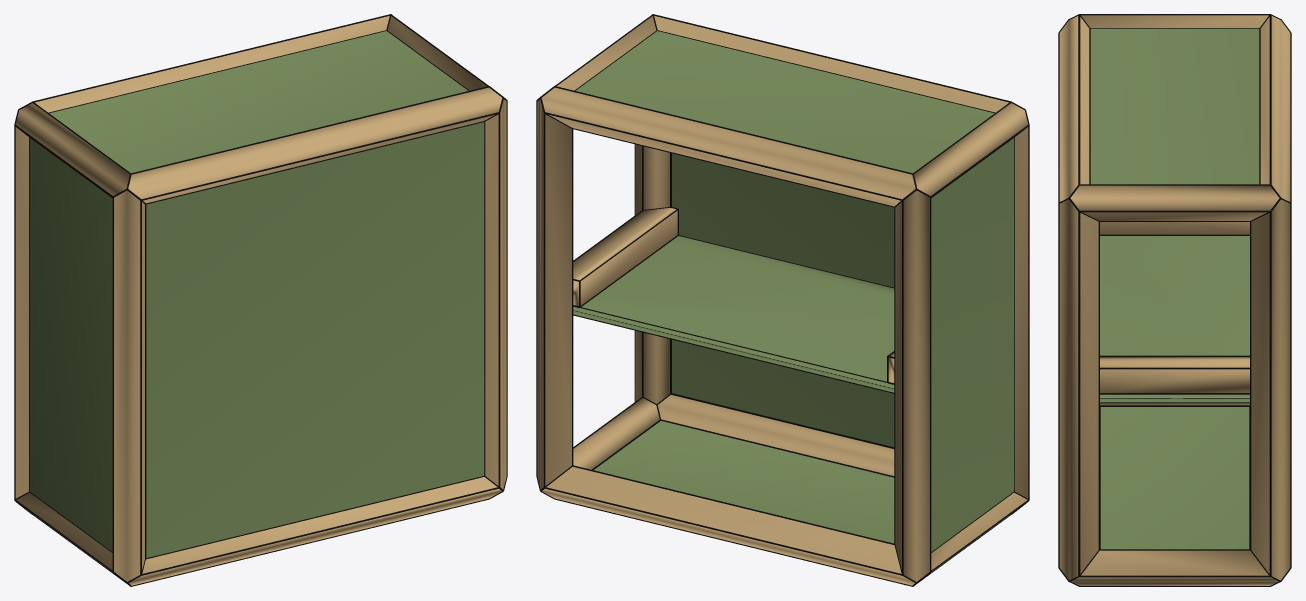
File: meuble-haut-cuisine-600.glb
3 renders of one model, left to right at view 1: azimuth 30°, elevation 25°; view 2: azimuth 150°, elevation 25°; view 3: azimuth 270°, elevation 25°, orthographic. The views are drawn at different scales.
Visible parts, largest first — view 1: panneau-fond, panneau-joue1, panneau-dessus_interieur, arete-X2, arete-Z0, arete-X0, arete-Z1, arete-Z2, arete-X3, arete-Y2, panneau-wire-fond, arete-wire-Z1 (+9 smaller); view 2: panneau-fond, panneau-joue1, tablette-plate-mod-0, panneau-dessus_interieur, panneau-dessous, arete-X3, arete-Z2, arete-X1, arete-Z3, arete-X0, arete-Z0, arete-X2 (+18 smaller); view 3: panneau-dessus_interieur, panneau-dessous, tablette-plate-mod-0, arete-Z1, arete-Z3, arete-Y3, arete-Y1, tablette-traverse-right-mod-0, arete-X2, arete-X3, arete-wire-Z1, arete-wire-Z3 (+11 smaller).
Part boxes in pixels (x1,y1,x2,y2): panneau-fond: (146,122,484,557); panneau-joue1: (29,138,112,551); panneau-dessus_interieur: (49,31,467,173); arete-X2: (128,87,502,203); arete-Z0: (114,190,144,581); arete-X0: (129,477,501,585); arete-Z1: (485,99,506,489); arete-Z2: (15,127,28,498); arete-X3: (35,16,389,112); arete-Y2: (15,103,129,195); panneau-wire-fond: (145,121,485,559); arete-wire-Z1: (498,97,507,487); panneau-fond: (672,153,894,447); panneau-joue1: (931,138,1014,551); tablette-plate-mod-0: (573,236,894,392); panneau-dessus_interieur: (576,31,994,173); panneau-dessous: (594,421,894,543); arete-X3: (541,87,915,206); arete-Z2: (895,190,929,581); arete-X1: (542,466,914,585); arete-Z3: (537,99,571,489); arete-X0: (657,395,894,475); arete-Z0: (1015,127,1028,498); arete-X2: (654,16,1008,112); panneau-dessus_interieur: (1090,28,1259,184); panneau-dessous: (1100,407,1249,549); tablette-plate-mod-0: (1100,236,1249,402); arete-Z1: (1059,199,1098,580); arete-Z3: (1251,199,1290,580); arete-Y3: (1070,185,1279,220); arete-Y1: (1071,550,1278,585); tablette-traverse-right-mod-0: (1100,357,1249,392); arete-X2: (1059,16,1089,201); arete-X3: (1260,16,1290,201); arete-wire-Z1: (1058,198,1099,576); arete-wire-Z3: (1250,203,1291,576).
Size of the model in its own units: 0.6309 by 0.6309 by 0.3309.
